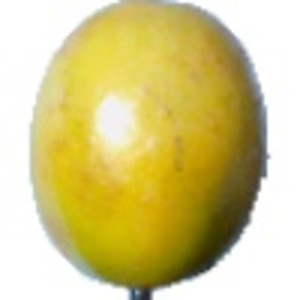maracujá: (28, 1, 272, 300)
